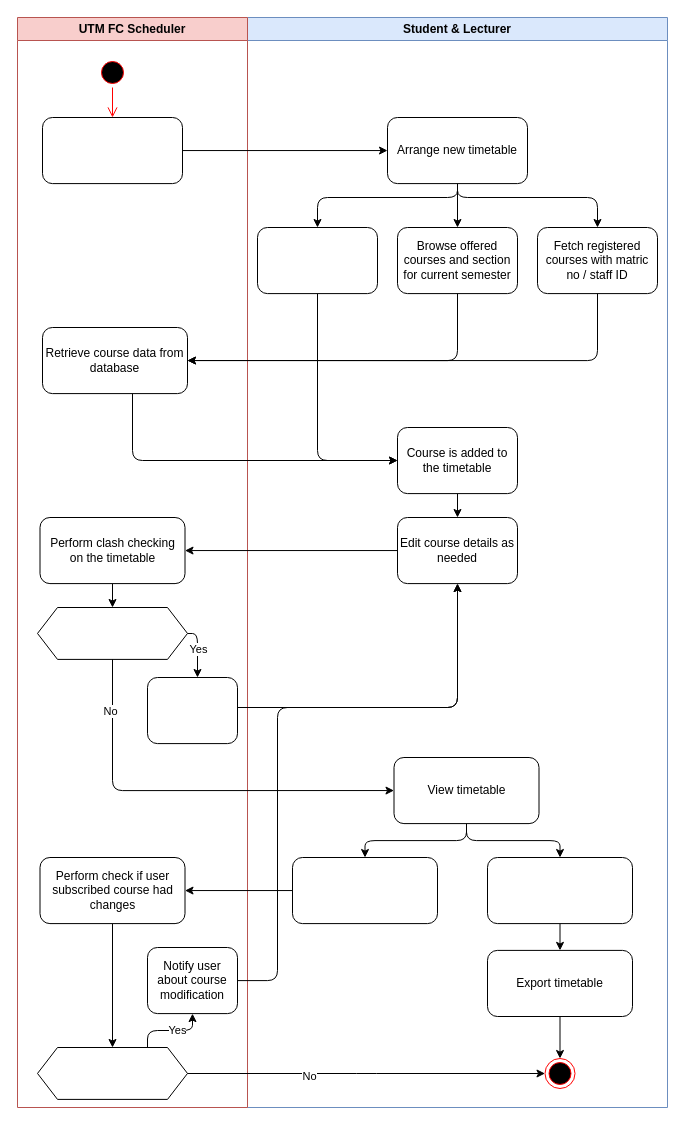
This 685x1125 diagram has some shape labels left out. The shapes that lost their labels are listed below. From the top down, each one's centre as x and y in pixels, then its label:
At [112,150]: "Schedule release".
At [317,260]: "Create a blank course".
At [112,632]: "Clashes detected?".
At [192,710]: "Notify user about clash details".
At [365,890]: "Manage course change subscriptions".
At [559,890]: "Configure timetable export preferences".
At [112,1072]: "Changes to the course subscribed by the user?".
